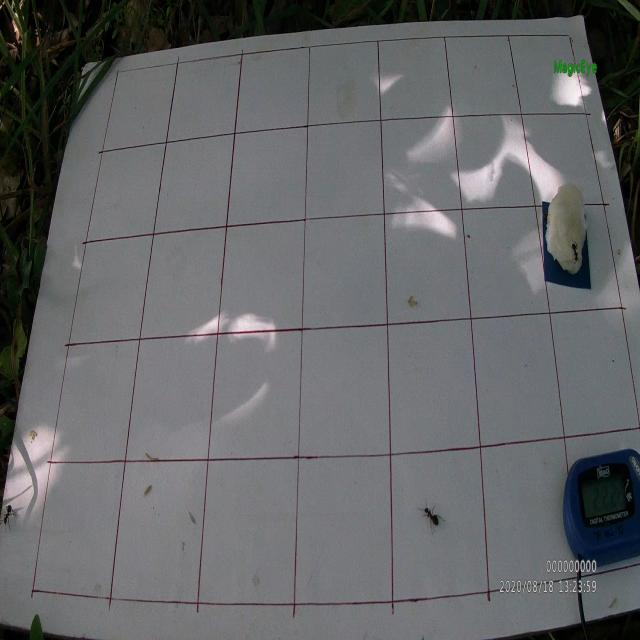Ant: (418, 496, 446, 536), (1, 503, 17, 532), (567, 237, 580, 264), (544, 208, 550, 226)
